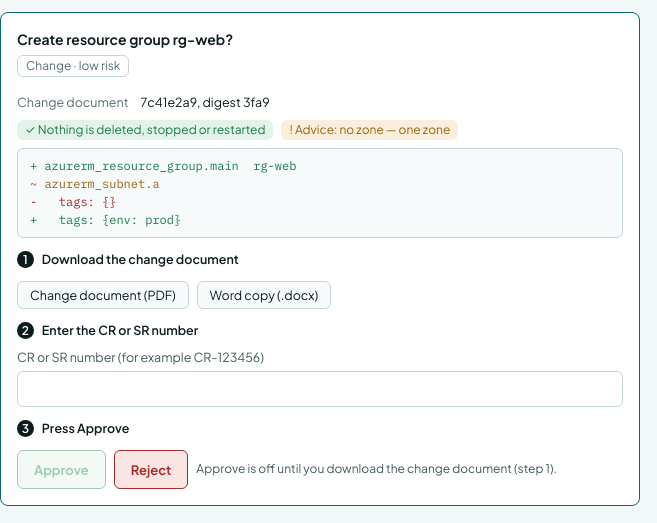
Test: an Azure change on its card › downloads each document through the fixed endpoint and shows an advice check as amber
The image size is (657, 523).
Click the button "Word copy (.docx)" at [264, 295], box x1=197 y1=280 x2=331 y2=309
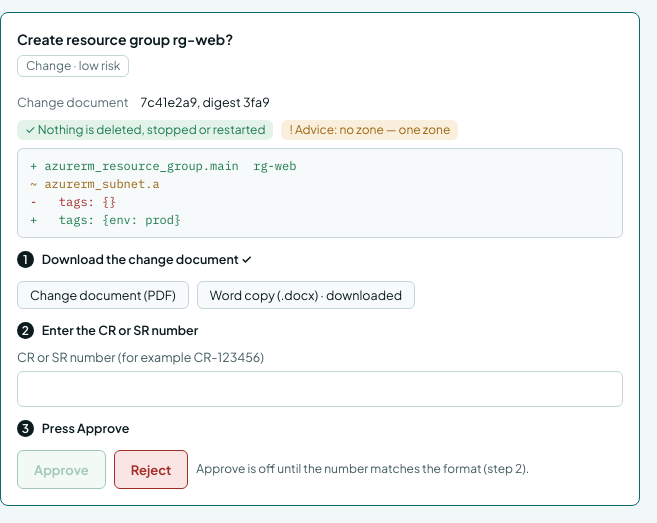
Check: the element named "Diff" shows "~ azurerm_subnet.a", box x1=30 y1=176 x2=160 y2=191
Check: the button "Word copy (.docx) · downloaded" is shown, box x1=197 y1=280 x2=415 y2=309
